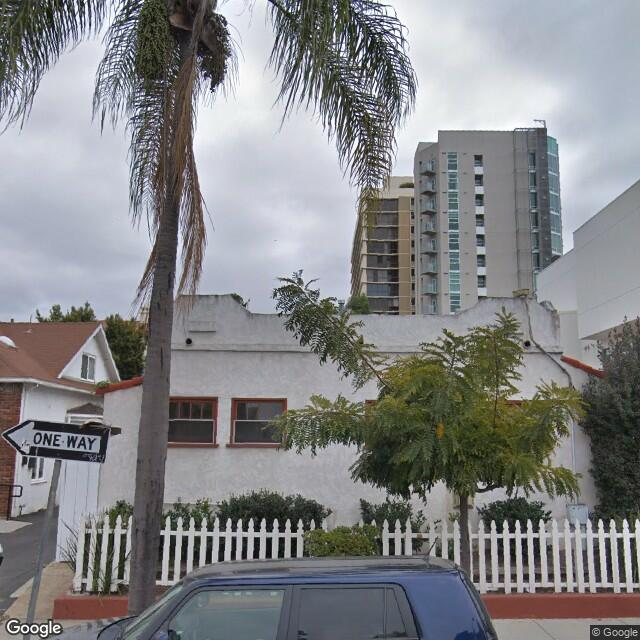window: (227, 396, 297, 444), (165, 395, 224, 446)
